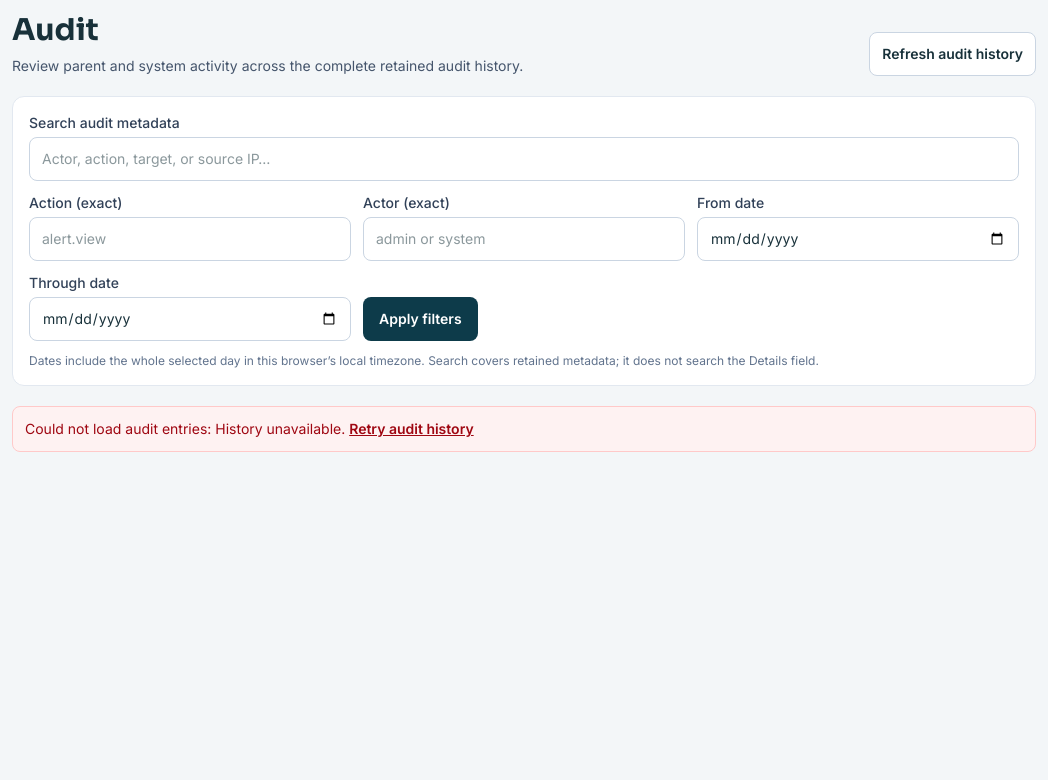
Test: complete audit history › shows initial failure as an error, then retries without a false empty state
Expected: the text "No retained audit entries match these filters." is not shown
Click the button "Retry audit history". click: coordinates (411, 429)
box: [349,419,474,439]
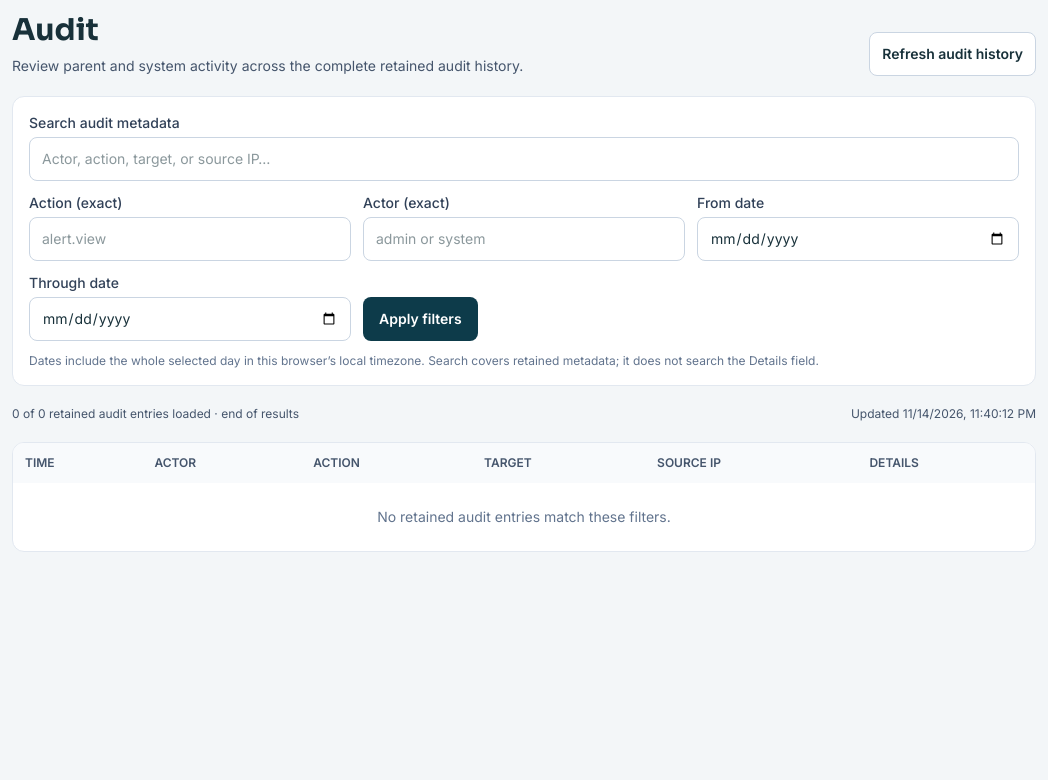
Expected: the text "No retained audit entries match these filters." is shown, [13,483,1035,551]
